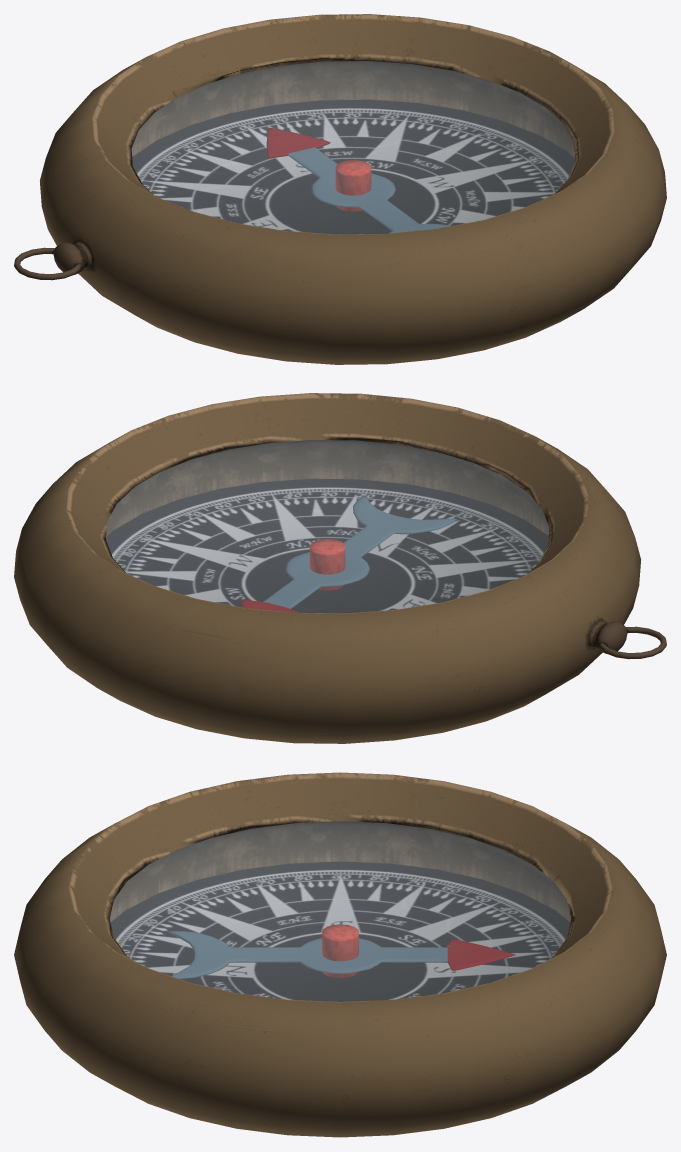
Rendered from compass.glb.
The picture shows the model from 3 angles, top to bottom: view 1: azimuth 30°, elevation 25°; view 2: azimuth 150°, elevation 25°; view 3: azimuth 270°, elevation 25°; orthographic projection. The views are drawn at different scales.
Visible parts, largest first — view 1: Sphere, Sphere.001, Cube_Cube.001, Cylinder, Circle_Circle.003, Torus.001; view 2: Sphere, Sphere.001, Cube_Cube.001, Cylinder, Circle_Circle.003, Torus.001; view 3: Sphere, Sphere.001, Cube_Cube.001, Cylinder.
Boxes of the visible parts, x1,y1,x2,y2 form: Sphere: [40, 14, 666, 364]; Sphere.001: [132, 61, 574, 233]; Cube_Cube.001: [266, 127, 451, 233]; Cylinder: [335, 160, 371, 211]; Circle_Circle.003: [53, 242, 91, 274]; Torus.001: [14, 247, 81, 280]; Sphere: [14, 393, 640, 743]; Sphere.001: [106, 440, 548, 612]; Cube_Cube.001: [241, 496, 457, 612]; Cylinder: [309, 539, 345, 590]; Circle_Circle.003: [589, 621, 627, 653]; Torus.001: [599, 626, 666, 659]; Sphere: [14, 772, 666, 1137]; Sphere.001: [110, 821, 570, 1001]; Cube_Cube.001: [167, 931, 515, 978]; Cylinder: [322, 924, 358, 977].
Size of the model in its own units: 2 by 0.4115 by 1.8.
6 materials, 6 textured.
